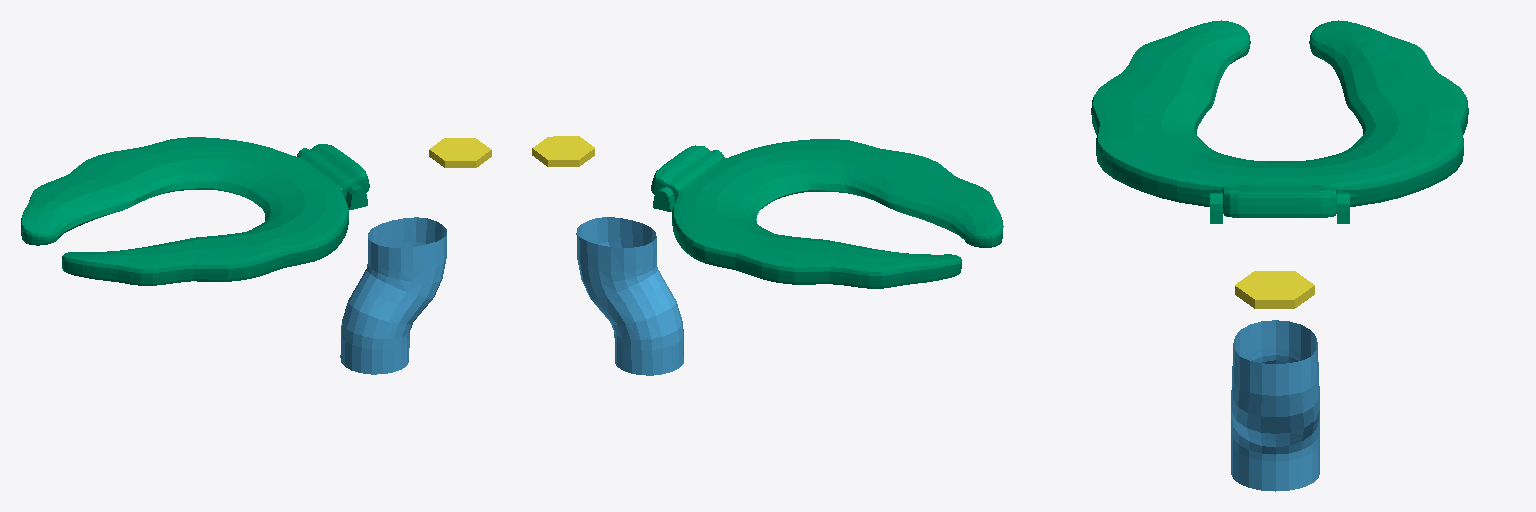
The robot description file, URDF, robot "partnet_4f956e259344d4a3599fb6902c958d23":
<robot name="partnet_4f956e259344d4a3599fb6902c958d23">
  <link name="base"/>
  <link name="link_0">
    <visual name="glass-17">
      <origin xyz="0.609389123473717 0.3639250099658966 -0.5162083004578528"/>
      <geometry>
        <mesh filename="textured_objs/original-10.obj"/>
      </geometry>
    </visual>
    <visual name="handle-18">
      <origin xyz="0.609389123473717 0.3639250099658966 -0.5162083004578528"/>
      <geometry>
        <mesh filename="textured_objs/original-9.obj"/>
      </geometry>
    </visual>
    <collision>
      <origin xyz="0.609389123473717 0.3639250099658966 -0.5162083004578528"/>
      <geometry>
        <mesh filename="textured_objs/original-10.obj"/>
      </geometry>
    </collision>
    <collision>
      <origin xyz="0.609389123473717 0.3639250099658966 -0.5162083004578528"/>
      <geometry>
        <mesh filename="textured_objs/original-9.obj"/>
      </geometry>
    </collision>
  </link>
  <joint name="joint_0" type="revolute">
    <origin xyz="-0.609389123473717 -0.3639250099658966 0.5162083004578528"/>
    <axis xyz="0 -1 0"/>
    <child link="link_0"/>
    <parent link="link_2"/>
    <limit lower="0.0" upper="1.5707963267948966" effort="100" velocity="1.0"/>
  </joint>
  <link name="link_1">
    <visual name="tray-20">
      <origin xyz="0.06902066840980137 -0.36055201292037964 -0.06108543121933008"/>
      <geometry>
        <mesh filename="textured_objs/original-4.obj"/>
      </geometry>
    </visual>
    <visual name="other_leaf-22">
      <origin xyz="0.06902066840980137 -0.36055201292037964 -0.06108543121933008"/>
      <geometry>
        <mesh filename="textured_objs/original-43.obj"/>
      </geometry>
    </visual>
    <visual name="other_leaf-22">
      <origin xyz="0.06902066840980137 -0.36055201292037964 -0.06108543121933008"/>
      <geometry>
        <mesh filename="textured_objs/original-32.obj"/>
      </geometry>
    </visual>
    <visual name="other_leaf-22">
      <origin xyz="0.06902066840980137 -0.36055201292037964 -0.06108543121933008"/>
      <geometry>
        <mesh filename="textured_objs/original-34.obj"/>
      </geometry>
    </visual>
    <visual name="other_leaf-22">
      <origin xyz="0.06902066840980137 -0.36055201292037964 -0.06108543121933008"/>
      <geometry>
        <mesh filename="textured_objs/original-31.obj"/>
      </geometry>
    </visual>
    <visual name="other_leaf-22">
      <origin xyz="0.06902066840980137 -0.36055201292037964 -0.06108543121933008"/>
      <geometry>
        <mesh filename="textured_objs/original-37.obj"/>
      </geometry>
    </visual>
    <visual name="other_leaf-22">
      <origin xyz="0.06902066840980137 -0.36055201292037964 -0.06108543121933008"/>
      <geometry>
        <mesh filename="textured_objs/original-18.obj"/>
      </geometry>
    </visual>
    <visual name="other_leaf-22">
      <origin xyz="0.06902066840980137 -0.36055201292037964 -0.06108543121933008"/>
      <geometry>
        <mesh filename="textured_objs/original-17.obj"/>
      </geometry>
    </visual>
    <visual name="other_leaf-22">
      <origin xyz="0.06902066840980137 -0.36055201292037964 -0.06108543121933008"/>
      <geometry>
        <mesh filename="textured_objs/original-14.obj"/>
      </geometry>
    </visual>
    <visual name="other_leaf-22">
      <origin xyz="0.06902066840980137 -0.36055201292037964 -0.06108543121933008"/>
      <geometry>
        <mesh filename="textured_objs/original-16.obj"/>
      </geometry>
    </visual>
    <visual name="other_leaf-22">
      <origin xyz="0.06902066840980137 -0.36055201292037964 -0.06108543121933008"/>
      <geometry>
        <mesh filename="textured_objs/original-30.obj"/>
      </geometry>
    </visual>
    <visual name="other_leaf-22">
      <origin xyz="0.06902066840980137 -0.36055201292037964 -0.06108543121933008"/>
      <geometry>
        <mesh filename="textured_objs/original-41.obj"/>
      </geometry>
    </visual>
    <visual name="other_leaf-22">
      <origin xyz="0.06902066840980137 -0.36055201292037964 -0.06108543121933008"/>
      <geometry>
        <mesh filename="textured_objs/original-12.obj"/>
      </geometry>
    </visual>
    <visual name="other_leaf-22">
      <origin xyz="0.06902066840980137 -0.36055201292037964 -0.06108543121933008"/>
      <geometry>
        <mesh filename="textured_objs/original-21.obj"/>
      </geometry>
    </visual>
    <visual name="other_leaf-22">
      <origin xyz="0.06902066840980137 -0.36055201292037964 -0.06108543121933008"/>
      <geometry>
        <mesh filename="textured_objs/original-29.obj"/>
      </geometry>
    </visual>
    <visual name="other_leaf-22">
      <origin xyz="0.06902066840980137 -0.36055201292037964 -0.06108543121933008"/>
      <geometry>
        <mesh filename="textured_objs/original-35.obj"/>
      </geometry>
    </visual>
    <visual name="other_leaf-22">
      <origin xyz="0.06902066840980137 -0.36055201292037964 -0.06108543121933008"/>
      <geometry>
        <mesh filename="textured_objs/original-42.obj"/>
      </geometry>
    </visual>
    <visual name="other_leaf-22">
      <origin xyz="0.06902066840980137 -0.36055201292037964 -0.06108543121933008"/>
      <geometry>
        <mesh filename="textured_objs/original-33.obj"/>
      </geometry>
    </visual>
    <visual name="other_leaf-22">
      <origin xyz="0.06902066840980137 -0.36055201292037964 -0.06108543121933008"/>
      <geometry>
        <mesh filename="textured_objs/original-38.obj"/>
      </geometry>
    </visual>
    <visual name="other_leaf-22">
      <origin xyz="0.06902066840980137 -0.36055201292037964 -0.06108543121933008"/>
      <geometry>
        <mesh filename="textured_objs/original-19.obj"/>
      </geometry>
    </visual>
    <visual name="other_leaf-22">
      <origin xyz="0.06902066840980137 -0.36055201292037964 -0.06108543121933008"/>
      <geometry>
        <mesh filename="textured_objs/original-39.obj"/>
      </geometry>
    </visual>
    <visual name="other_leaf-22">
      <origin xyz="0.06902066840980137 -0.36055201292037964 -0.06108543121933008"/>
      <geometry>
        <mesh filename="textured_objs/original-20.obj"/>
      </geometry>
    </visual>
    <visual name="other_leaf-22">
      <origin xyz="0.06902066840980137 -0.36055201292037964 -0.06108543121933008"/>
      <geometry>
        <mesh filename="textured_objs/original-24.obj"/>
      </geometry>
    </visual>
    <visual name="other_leaf-22">
      <origin xyz="0.06902066840980137 -0.36055201292037964 -0.06108543121933008"/>
      <geometry>
        <mesh filename="textured_objs/original-28.obj"/>
      </geometry>
    </visual>
    <visual name="other_leaf-22">
      <origin xyz="0.06902066840980137 -0.36055201292037964 -0.06108543121933008"/>
      <geometry>
        <mesh filename="textured_objs/original-27.obj"/>
      </geometry>
    </visual>
    <visual name="other_leaf-22">
      <origin xyz="0.06902066840980137 -0.36055201292037964 -0.06108543121933008"/>
      <geometry>
        <mesh filename="textured_objs/original-40.obj"/>
      </geometry>
    </visual>
    <visual name="other_leaf-22">
      <origin xyz="0.06902066840980137 -0.36055201292037964 -0.06108543121933008"/>
      <geometry>
        <mesh filename="textured_objs/original-11.obj"/>
      </geometry>
    </visual>
    <visual name="other_leaf-22">
      <origin xyz="0.06902066840980137 -0.36055201292037964 -0.06108543121933008"/>
      <geometry>
        <mesh filename="textured_objs/original-13.obj"/>
      </geometry>
    </visual>
    <visual name="other_leaf-22">
      <origin xyz="0.06902066840980137 -0.36055201292037964 -0.06108543121933008"/>
      <geometry>
        <mesh filename="textured_objs/original-15.obj"/>
      </geometry>
    </visual>
    <visual name="other_leaf-22">
      <origin xyz="0.06902066840980137 -0.36055201292037964 -0.06108543121933008"/>
      <geometry>
        <mesh filename="textured_objs/original-22.obj"/>
      </geometry>
    </visual>
    <visual name="other_leaf-22">
      <origin xyz="0.06902066840980137 -0.36055201292037964 -0.06108543121933008"/>
      <geometry>
        <mesh filename="textured_objs/original-26.obj"/>
      </geometry>
    </visual>
    <visual name="other_leaf-22">
      <origin xyz="0.06902066840980137 -0.36055201292037964 -0.06108543121933008"/>
      <geometry>
        <mesh filename="textured_objs/original-25.obj"/>
      </geometry>
    </visual>
    <visual name="other_leaf-22">
      <origin xyz="0.06902066840980137 -0.36055201292037964 -0.06108543121933008"/>
      <geometry>
        <mesh filename="textured_objs/original-23.obj"/>
      </geometry>
    </visual>
    <visual name="other_leaf-22">
      <origin xyz="0.06902066840980137 -0.36055201292037964 -0.06108543121933008"/>
      <geometry>
        <mesh filename="textured_objs/original-36.obj"/>
      </geometry>
    </visual>
    <visual name="other_leaf-22">
      <origin xyz="0.06902066840980137 -0.36055201292037964 -0.06108543121933008"/>
      <geometry>
        <mesh filename="textured_objs/original-2.obj"/>
      </geometry>
    </visual>
    <visual name="other_leaf-22">
      <origin xyz="0.06902066840980137 -0.36055201292037964 -0.06108543121933008"/>
      <geometry>
        <mesh filename="textured_objs/original-3.obj"/>
      </geometry>
    </visual>
    <collision>
      <origin xyz="0.06902066840980137 -0.36055201292037964 -0.06108543121933008"/>
      <geometry>
        <mesh filename="textured_objs/original-4.obj"/>
      </geometry>
    </collision>
    <collision>
      <origin xyz="0.06902066840980137 -0.36055201292037964 -0.06108543121933008"/>
      <geometry>
        <mesh filename="textured_objs/original-43.obj"/>
      </geometry>
    </collision>
    <collision>
      <origin xyz="0.06902066840980137 -0.36055201292037964 -0.06108543121933008"/>
      <geometry>
        <mesh filename="textured_objs/original-32.obj"/>
      </geometry>
    </collision>
    <collision>
      <origin xyz="0.06902066840980137 -0.36055201292037964 -0.06108543121933008"/>
      <geometry>
        <mesh filename="textured_objs/original-34.obj"/>
      </geometry>
    </collision>
    <collision>
      <origin xyz="0.06902066840980137 -0.36055201292037964 -0.06108543121933008"/>
      <geometry>
        <mesh filename="textured_objs/original-31.obj"/>
      </geometry>
    </collision>
    <collision>
      <origin xyz="0.06902066840980137 -0.36055201292037964 -0.06108543121933008"/>
      <geometry>
        <mesh filename="textured_objs/original-37.obj"/>
      </geometry>
    </collision>
    <collision>
      <origin xyz="0.06902066840980137 -0.36055201292037964 -0.06108543121933008"/>
      <geometry>
        <mesh filename="textured_objs/original-18.obj"/>
      </geometry>
    </collision>
    <collision>
      <origin xyz="0.06902066840980137 -0.36055201292037964 -0.06108543121933008"/>
      <geometry>
        <mesh filename="textured_objs/original-17.obj"/>
      </geometry>
    </collision>
    <collision>
      <origin xyz="0.06902066840980137 -0.36055201292037964 -0.06108543121933008"/>
      <geometry>
        <mesh filename="textured_objs/original-14.obj"/>
      </geometry>
    </collision>
    <collision>
      <origin xyz="0.06902066840980137 -0.36055201292037964 -0.06108543121933008"/>
      <geometry>
        <mesh filename="textured_objs/original-16.obj"/>
      </geometry>
    </collision>
    <collision>
      <origin xyz="0.06902066840980137 -0.36055201292037964 -0.06108543121933008"/>
      <geometry>
        <mesh filename="textured_objs/original-30.obj"/>
      </geometry>
    </collision>
    <collision>
      <origin xyz="0.06902066840980137 -0.36055201292037964 -0.06108543121933008"/>
      <geometry>
        <mesh filename="textured_objs/original-41.obj"/>
      </geometry>
    </collision>
    <collision>
      <origin xyz="0.06902066840980137 -0.36055201292037964 -0.06108543121933008"/>
      <geometry>
        <mesh filename="textured_objs/original-12.obj"/>
      </geometry>
    </collision>
    <collision>
      <origin xyz="0.06902066840980137 -0.36055201292037964 -0.06108543121933008"/>
      <geometry>
        <mesh filename="textured_objs/original-21.obj"/>
      </geometry>
    </collision>
    <collision>
      <origin xyz="0.06902066840980137 -0.36055201292037964 -0.06108543121933008"/>
      <geometry>
        <mesh filename="textured_objs/original-29.obj"/>
      </geometry>
    </collision>
    <collision>
      <origin xyz="0.06902066840980137 -0.36055201292037964 -0.06108543121933008"/>
      <geometry>
        <mesh filename="textured_objs/original-35.obj"/>
      </geometry>
    </collision>
    <collision>
      <origin xyz="0.06902066840980137 -0.36055201292037964 -0.06108543121933008"/>
      <geometry>
        <mesh filename="textured_objs/original-42.obj"/>
      </geometry>
    </collision>
    <collision>
      <origin xyz="0.06902066840980137 -0.36055201292037964 -0.06108543121933008"/>
      <geometry>
        <mesh filename="textured_objs/original-33.obj"/>
      </geometry>
    </collision>
    <collision>
      <origin xyz="0.06902066840980137 -0.36055201292037964 -0.06108543121933008"/>
      <geometry>
        <mesh filename="textured_objs/original-38.obj"/>
      </geometry>
    </collision>
    <collision>
      <origin xyz="0.06902066840980137 -0.36055201292037964 -0.06108543121933008"/>
      <geometry>
        <mesh filename="textured_objs/original-19.obj"/>
      </geometry>
    </collision>
    <collision>
      <origin xyz="0.06902066840980137 -0.36055201292037964 -0.06108543121933008"/>
      <geometry>
        <mesh filename="textured_objs/original-39.obj"/>
      </geometry>
    </collision>
    <collision>
      <origin xyz="0.06902066840980137 -0.36055201292037964 -0.06108543121933008"/>
      <geometry>
        <mesh filename="textured_objs/original-20.obj"/>
      </geometry>
    </collision>
    <collision>
      <origin xyz="0.06902066840980137 -0.36055201292037964 -0.06108543121933008"/>
      <geometry>
        <mesh filename="textured_objs/original-24.obj"/>
      </geometry>
    </collision>
    <collision>
      <origin xyz="0.06902066840980137 -0.36055201292037964 -0.06108543121933008"/>
      <geometry>
        <mesh filename="textured_objs/original-28.obj"/>
      </geometry>
    </collision>
    <collision>
      <origin xyz="0.06902066840980137 -0.36055201292037964 -0.06108543121933008"/>
      <geometry>
        <mesh filename="textured_objs/original-27.obj"/>
      </geometry>
    </collision>
    <collision>
      <origin xyz="0.06902066840980137 -0.36055201292037964 -0.06108543121933008"/>
      <geometry>
        <mesh filename="textured_objs/original-40.obj"/>
      </geometry>
    </collision>
    <collision>
      <origin xyz="0.06902066840980137 -0.36055201292037964 -0.06108543121933008"/>
      <geometry>
        <mesh filename="textured_objs/original-11.obj"/>
      </geometry>
    </collision>
    <collision>
      <origin xyz="0.06902066840980137 -0.36055201292037964 -0.06108543121933008"/>
      <geometry>
        <mesh filename="textured_objs/original-13.obj"/>
      </geometry>
    </collision>
    <collision>
      <origin xyz="0.06902066840980137 -0.36055201292037964 -0.06108543121933008"/>
      <geometry>
        <mesh filename="textured_objs/original-15.obj"/>
      </geometry>
    </collision>
    <collision>
      <origin xyz="0.06902066840980137 -0.36055201292037964 -0.06108543121933008"/>
      <geometry>
        <mesh filename="textured_objs/original-22.obj"/>
      </geometry>
    </collision>
    <collision>
      <origin xyz="0.06902066840980137 -0.36055201292037964 -0.06108543121933008"/>
      <geometry>
        <mesh filename="textured_objs/original-26.obj"/>
      </geometry>
    </collision>
    <collision>
      <origin xyz="0.06902066840980137 -0.36055201292037964 -0.06108543121933008"/>
      <geometry>
        <mesh filename="textured_objs/original-25.obj"/>
      </geometry>
    </collision>
    <collision>
      <origin xyz="0.06902066840980137 -0.36055201292037964 -0.06108543121933008"/>
      <geometry>
        <mesh filename="textured_objs/original-23.obj"/>
      </geometry>
    </collision>
    <collision>
      <origin xyz="0.06902066840980137 -0.36055201292037964 -0.06108543121933008"/>
      <geometry>
        <mesh filename="textured_objs/original-36.obj"/>
      </geometry>
    </collision>
    <collision>
      <origin xyz="0.06902066840980137 -0.36055201292037964 -0.06108543121933008"/>
      <geometry>
        <mesh filename="textured_objs/original-2.obj"/>
      </geometry>
    </collision>
    <collision>
      <origin xyz="0.06902066840980137 -0.36055201292037964 -0.06108543121933008"/>
      <geometry>
        <mesh filename="textured_objs/original-3.obj"/>
      </geometry>
    </collision>
  </link>
  <joint name="joint_1" type="continuous">
    <origin xyz="-0.06902066840980137 0.36055201292037964 0.06108543121933008"/>
    <axis xyz="0 1 0"/>
    <child link="link_1"/>
    <parent link="link_2"/>
  </joint>
  <link name="link_2">
    <visual name="frame-2">
      <origin xyz="0 0 0"/>
      <geometry>
        <mesh filename="textured_objs/original-6.obj"/>
      </geometry>
    </visual>
    <visual name="frame-2">
      <origin xyz="0 0 0"/>
      <geometry>
        <mesh filename="textured_objs/original-61.obj"/>
      </geometry>
    </visual>
    <visual name="control_button-5">
      <origin xyz="0 0 0"/>
      <geometry>
        <mesh filename="textured_objs/original-60.obj"/>
      </geometry>
    </visual>
    <visual name="control_button-6">
      <origin xyz="0 0 0"/>
      <geometry>
        <mesh filename="textured_objs/original-54.obj"/>
      </geometry>
    </visual>
    <visual name="control_button-7">
      <origin xyz="0 0 0"/>
      <geometry>
        <mesh filename="textured_objs/original-53.obj"/>
      </geometry>
    </visual>
    <visual name="control_button-8">
      <origin xyz="0 0 0"/>
      <geometry>
        <mesh filename="textured_objs/original-52.obj"/>
      </geometry>
    </visual>
    <visual name="control_button-9">
      <origin xyz="0 0 0"/>
      <geometry>
        <mesh filename="textured_objs/original-51.obj"/>
      </geometry>
    </visual>
    <visual name="control_button-10">
      <origin xyz="0 0 0"/>
      <geometry>
        <mesh filename="textured_objs/original-50.obj"/>
      </geometry>
    </visual>
    <visual name="control_button-11">
      <origin xyz="0 0 0"/>
      <geometry>
        <mesh filename="textured_objs/original-49.obj"/>
      </geometry>
    </visual>
    <visual name="control_button-12">
      <origin xyz="0 0 0"/>
      <geometry>
        <mesh filename="textured_objs/original-48.obj"/>
      </geometry>
    </visual>
    <visual name="control_button-13">
      <origin xyz="0 0 0"/>
      <geometry>
        <mesh filename="textured_objs/original-47.obj"/>
      </geometry>
    </visual>
    <visual name="control_button-14">
      <origin xyz="0 0 0"/>
      <geometry>
        <mesh filename="textured_objs/original-46.obj"/>
      </geometry>
    </visual>
    <visual name="other_leaf-16">
      <origin xyz="0 0 0"/>
      <geometry>
        <mesh filename="textured_objs/original-56.obj"/>
      </geometry>
    </visual>
    <visual name="other_leaf-16">
      <origin xyz="0 0 0"/>
      <geometry>
        <mesh filename="textured_objs/original-58.obj"/>
      </geometry>
    </visual>
    <visual name="other_leaf-16">
      <origin xyz="0 0 0"/>
      <geometry>
        <mesh filename="textured_objs/original-57.obj"/>
      </geometry>
    </visual>
    <visual name="other_leaf-16">
      <origin xyz="0 0 0"/>
      <geometry>
        <mesh filename="textured_objs/original-59.obj"/>
      </geometry>
    </visual>
    <collision>
      <origin xyz="0 0 0"/>
      <geometry>
        <mesh filename="textured_objs/original-6.obj"/>
      </geometry>
    </collision>
    <collision>
      <origin xyz="0 0 0"/>
      <geometry>
        <mesh filename="textured_objs/original-61.obj"/>
      </geometry>
    </collision>
    <collision>
      <origin xyz="0 0 0"/>
      <geometry>
        <mesh filename="textured_objs/original-60.obj"/>
      </geometry>
    </collision>
    <collision>
      <origin xyz="0 0 0"/>
      <geometry>
        <mesh filename="textured_objs/original-54.obj"/>
      </geometry>
    </collision>
    <collision>
      <origin xyz="0 0 0"/>
      <geometry>
        <mesh filename="textured_objs/original-53.obj"/>
      </geometry>
    </collision>
    <collision>
      <origin xyz="0 0 0"/>
      <geometry>
        <mesh filename="textured_objs/original-52.obj"/>
      </geometry>
    </collision>
    <collision>
      <origin xyz="0 0 0"/>
      <geometry>
        <mesh filename="textured_objs/original-51.obj"/>
      </geometry>
    </collision>
    <collision>
      <origin xyz="0 0 0"/>
      <geometry>
        <mesh filename="textured_objs/original-50.obj"/>
      </geometry>
    </collision>
    <collision>
      <origin xyz="0 0 0"/>
      <geometry>
        <mesh filename="textured_objs/original-49.obj"/>
      </geometry>
    </collision>
    <collision>
      <origin xyz="0 0 0"/>
      <geometry>
        <mesh filename="textured_objs/original-48.obj"/>
      </geometry>
    </collision>
    <collision>
      <origin xyz="0 0 0"/>
      <geometry>
        <mesh filename="textured_objs/original-47.obj"/>
      </geometry>
    </collision>
    <collision>
      <origin xyz="0 0 0"/>
      <geometry>
        <mesh filename="textured_objs/original-46.obj"/>
      </geometry>
    </collision>
    <collision>
      <origin xyz="0 0 0"/>
      <geometry>
        <mesh filename="textured_objs/original-56.obj"/>
      </geometry>
    </collision>
    <collision>
      <origin xyz="0 0 0"/>
      <geometry>
        <mesh filename="textured_objs/original-58.obj"/>
      </geometry>
    </collision>
    <collision>
      <origin xyz="0 0 0"/>
      <geometry>
        <mesh filename="textured_objs/original-57.obj"/>
      </geometry>
    </collision>
    <collision>
      <origin xyz="0 0 0"/>
      <geometry>
        <mesh filename="textured_objs/original-59.obj"/>
      </geometry>
    </collision>
  </link>
  <joint name="joint_2" type="fixed">
    <origin rpy="1.570796326794897 0 -1.570796326794897" xyz="0 0 0"/>
    <child link="link_2"/>
    <parent link="base"/>
  </joint>
</robot>

--- What the picture shows (computed from the rendered views, not written in the file) ---
3 views of the same robot in one strip: view 1: azimuth 30°, elevation 25°; view 2: azimuth 150°, elevation 25°; view 3: azimuth 270°, elevation 25° (orthographic).
Model partnet_4f956e259344d4a3599fb6902c958d23 with 4 links and 3 joints (1 revolute, 1 continuous, 1 fixed), rooted at base, posed every joint at zero.
Visible links, largest first — view 1: link_1, link_0, link_2; view 2: link_1, link_0, link_2; view 3: link_1, link_0, link_2.
Boxes of the visible links, x1,y1,x2,y2 form: link_1: (21,137,369,285); link_0: (340,217,446,374); link_2: (429,138,491,167); link_1: (651,139,1003,288); link_0: (576,217,683,375); link_2: (532,136,594,166); link_1: (1091,20,1468,223); link_0: (1231,320,1319,491); link_2: (1235,271,1314,308).
Size in the robot's own frame: 1.73 by 1.02 by 0.7844 metres.
5 mesh visuals loaded from 54 distinct referenced files (5 OBJ); not drawn: 49 (reference not matched to a file when rendering).